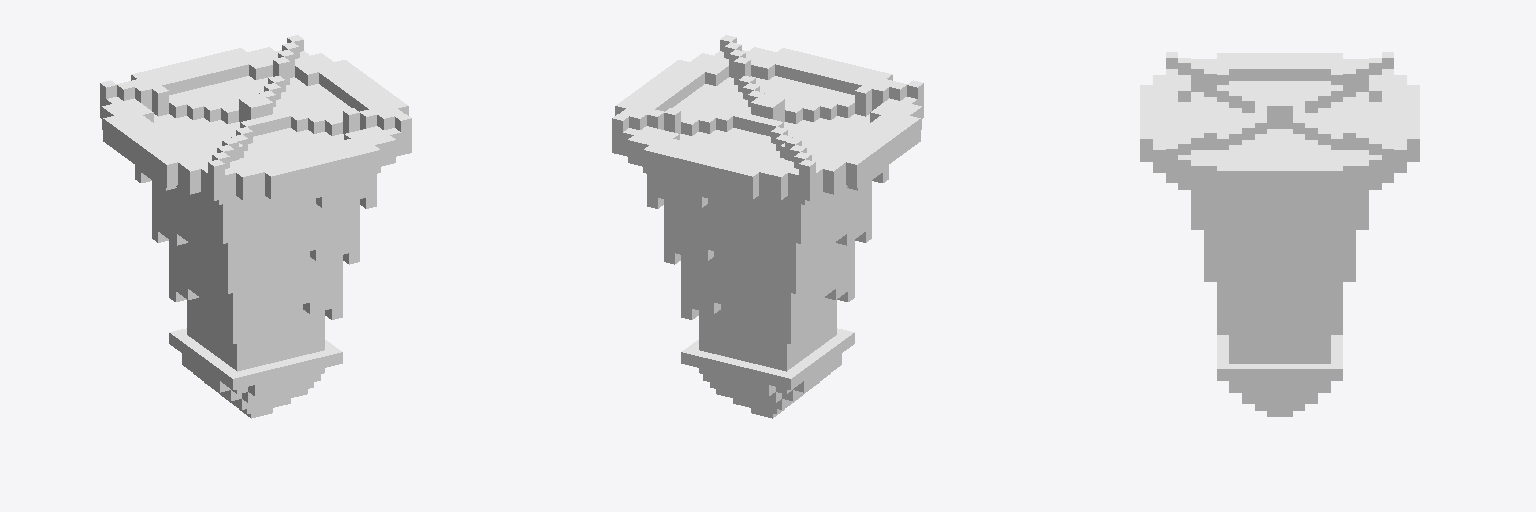
The model's file is Foreuse-2-Foreuse.obj.
3 views of the same model, side by side, from view 1: azimuth 30°, elevation 25°; view 2: azimuth 150°, elevation 25°; view 3: azimuth 270°, elevation 25° (orthographic).
Parts seen in each view (by area): view 1: Foreuse; view 2: Foreuse; view 3: Foreuse.
Part boxes in pixels (left/top/right/bottom): Foreuse: left=100, top=35, right=411, bottom=418; Foreuse: left=612, top=35, right=923, bottom=418; Foreuse: left=1140, top=52, right=1419, bottom=416.
Size of the model in its own units: 2.2 by 2.7 by 2.2.